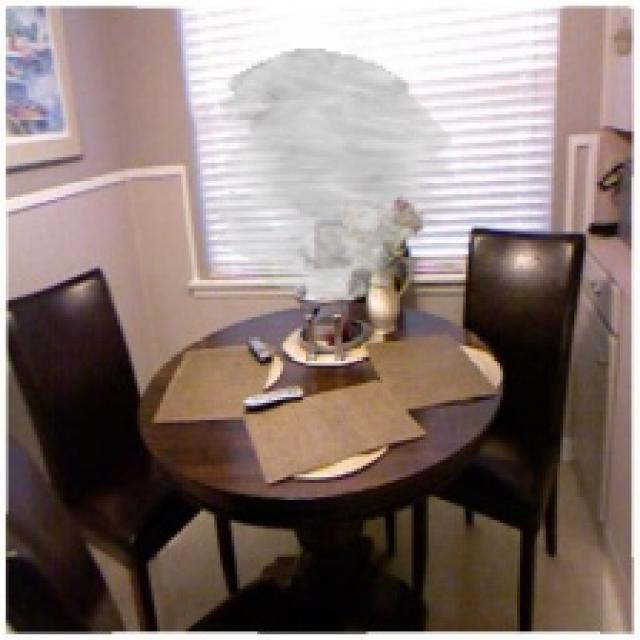smoke: (209, 49, 454, 300)
